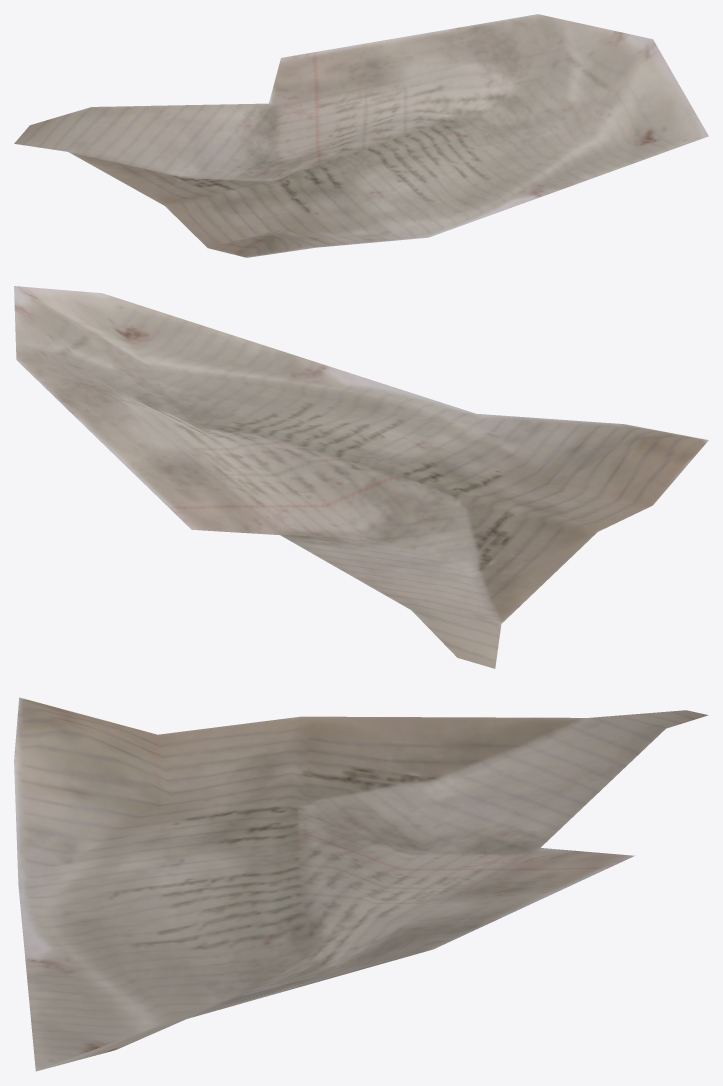
File: SM_Paper_01.fbx
3 views of the same model, one above another, from view 1: azimuth 30°, elevation 25°; view 2: azimuth 150°, elevation 25°; view 3: azimuth 270°, elevation 25° (orthographic). The views are drawn at different scales.
Visible parts, largest first — view 1: SM_Paper_01_LOD0; view 2: SM_Paper_01_LOD0; view 3: SM_Paper_01_LOD0.
Boxes of the visible parts, <box> form: SM_Paper_01_LOD0: <box>14,14,708,257</box>; SM_Paper_01_LOD0: <box>14,286,708,668</box>; SM_Paper_01_LOD0: <box>14,697,708,1071</box>.
Bounding box in the file's own units: 31.29 × 22.23 × 4.58.
1 material, 1 textured.
